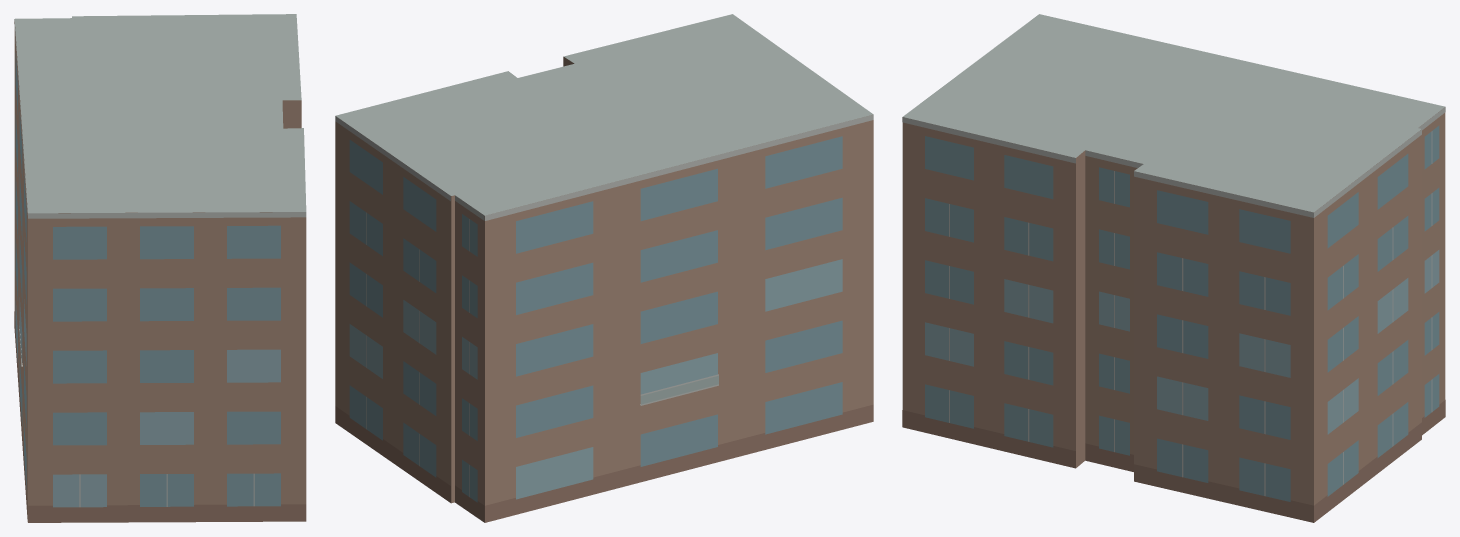
The model's file is survey-upis-32669805.glb.
3 views of the same model, side by side, from view 1: azimuth 30°, elevation 25°; view 2: azimuth 150°, elevation 25°; view 3: azimuth 270°, elevation 25° (orthographic).
Parts seen in each view (by area): view 1: survey-upis-32669805.tmp; view 2: survey-upis-32669805.tmp; view 3: survey-upis-32669805.tmp.
Boxes of the visible parts, box(x1,y1,x2,y2) form: survey-upis-32669805.tmp: box(14, 14, 306, 522); survey-upis-32669805.tmp: box(335, 14, 873, 522); survey-upis-32669805.tmp: box(902, 14, 1445, 522).
Bounding box in the file's own units: 18.8 × 13.7 × 21.73.
